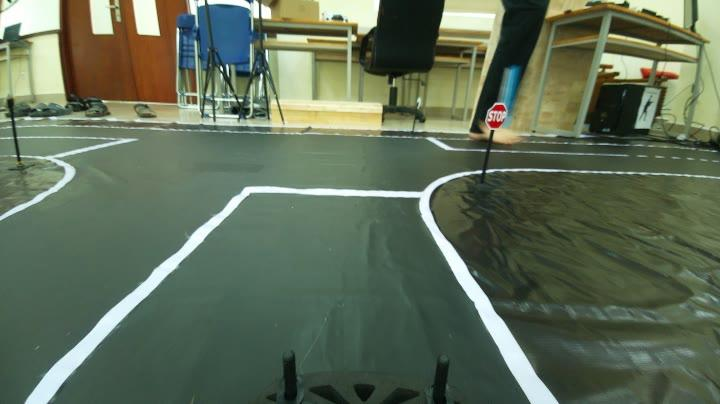stop: (484, 99, 509, 125)
